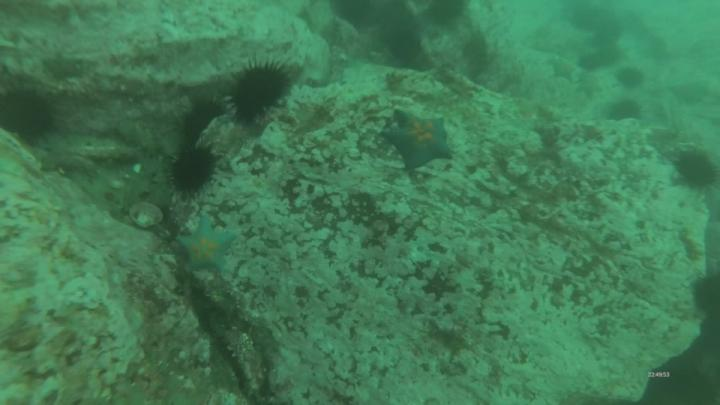echinus: (225, 57, 294, 129), (1, 85, 60, 147), (163, 145, 223, 200), (177, 98, 228, 146), (674, 147, 720, 194), (385, 26, 424, 65), (423, 1, 471, 30), (607, 94, 644, 126), (328, 1, 372, 26), (616, 64, 652, 92), (592, 19, 625, 48), (578, 51, 607, 75)
holothurian: (30, 131, 143, 165)
scallop: (124, 200, 168, 233)
starfish: (381, 107, 456, 175), (171, 212, 238, 279), (543, 54, 581, 85), (573, 72, 605, 100)
